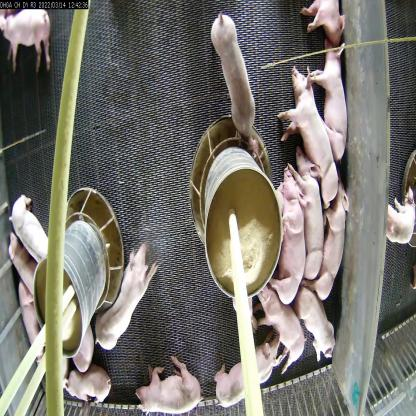Pig: (276, 55, 340, 212), (95, 234, 160, 352), (214, 15, 262, 140), (211, 331, 280, 408), (268, 174, 306, 298), (290, 163, 331, 277), (247, 283, 304, 362), (308, 42, 347, 155), (136, 352, 202, 415), (314, 186, 349, 297), (296, 279, 335, 363), (2, 9, 49, 67), (56, 361, 115, 407), (8, 233, 39, 306), (14, 198, 50, 258)
